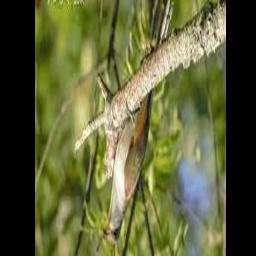Cuckoo: (103, 0, 173, 244)
